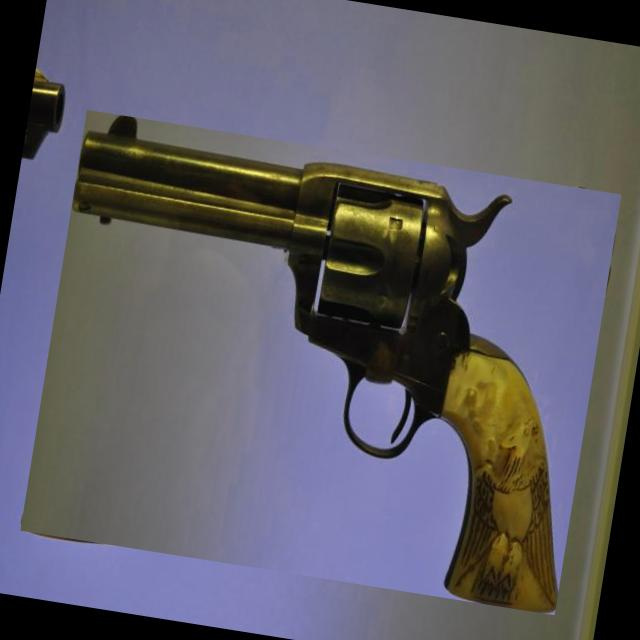Gun: (73, 118, 558, 613)
